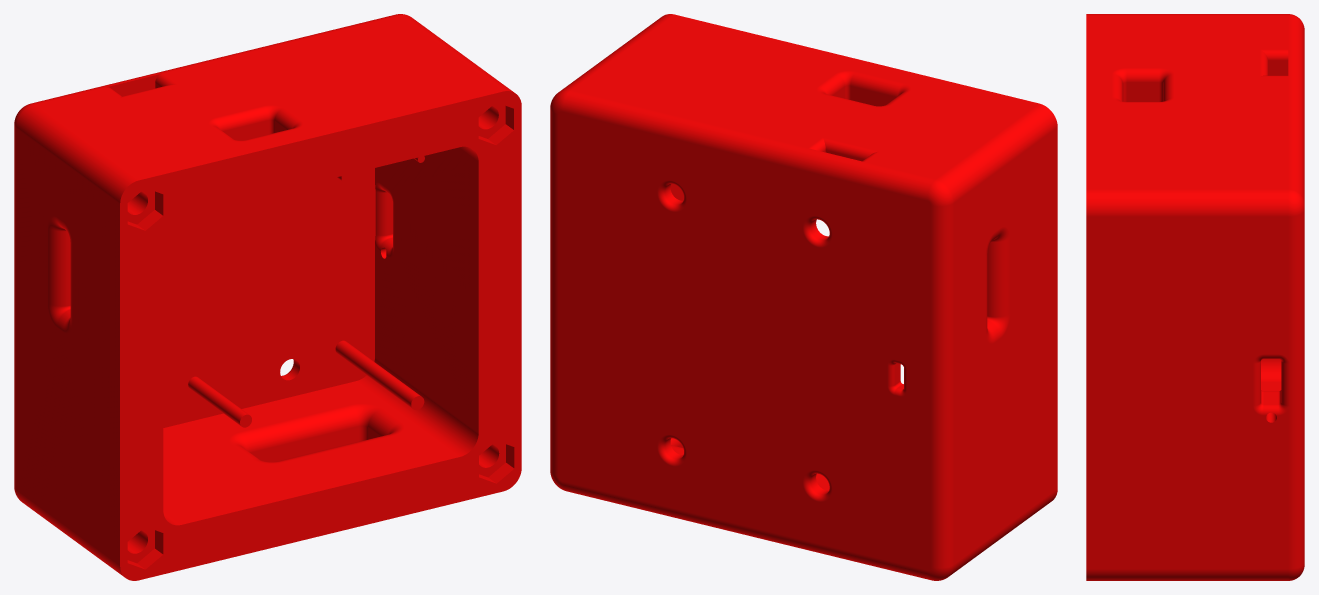
File: Bottom-RED.obj
3 renders of one model, left to right at view 1: azimuth 30°, elevation 25°; view 2: azimuth 150°, elevation 25°; view 3: azimuth 270°, elevation 25°, orthographic. The views are drawn at different scales.
Visible parts, largest first — view 1: mesh168, mesh2, mesh137, mesh90, mesh75, mesh142, mesh56, mesh11, mesh144, mesh126, mesh148, mesh1 (+6 smaller); view 2: mesh58, mesh137, mesh90, mesh49, mesh57, mesh56, mesh61, mesh64, mesh140, mesh63, mesh54, mesh93; view 3: mesh82, mesh90, mesh64, mesh54, mesh49, mesh60, mesh107, mesh12, mesh105, mesh65, mesh56, mesh53 (+2 smaller).
Part boxes in pixels (bbox=[...]): mesh168: bbox=[120, 91, 521, 580]; mesh2: bbox=[107, 74, 375, 427]; mesh137: bbox=[16, 128, 119, 565]; mesh90: bbox=[35, 15, 502, 180]; mesh75: bbox=[375, 147, 478, 432]; mesh142: bbox=[163, 381, 459, 524]; mesh56: bbox=[16, 104, 138, 203]; mesh11: bbox=[357, 357, 478, 456]; mesh144: bbox=[241, 405, 358, 452]; mesh126: bbox=[47, 228, 70, 306]; mesh148: bbox=[251, 426, 358, 462]; mesh1: bbox=[335, 340, 420, 408]; mesh58: bbox=[558, 111, 931, 570]; mesh137: bbox=[954, 127, 1057, 564]; mesh90: bbox=[571, 14, 1038, 179]; mesh49: bbox=[562, 90, 935, 200]; mesh57: bbox=[931, 203, 953, 567]; mesh56: bbox=[936, 103, 1057, 202]; mesh61: bbox=[562, 481, 929, 579]; mesh64: bbox=[550, 110, 558, 475]; mesh140: bbox=[987, 239, 1010, 316]; mesh63: bbox=[950, 489, 1057, 575]; mesh54: bbox=[561, 14, 674, 90]; mesh93: bbox=[850, 71, 902, 96]; mesh82: bbox=[1086, 217, 1288, 568]; mesh90: bbox=[1086, 16, 1288, 189]; mesh64: bbox=[1288, 211, 1304, 568]; mesh54: bbox=[1086, 189, 1288, 216]; mesh49: bbox=[1288, 16, 1304, 201]; mesh60: bbox=[1086, 569, 1288, 580]; mesh107: bbox=[1127, 82, 1158, 101]; mesh12: bbox=[1261, 359, 1281, 382]; mesh105: bbox=[1127, 68, 1158, 82]; mesh65: bbox=[1281, 362, 1290, 405]; mesh56: bbox=[1086, 14, 1288, 15]; mesh53: bbox=[1288, 189, 1304, 216].
Bounding box in the file's own units: 0.0828 × 0.0788 × 0.04.
